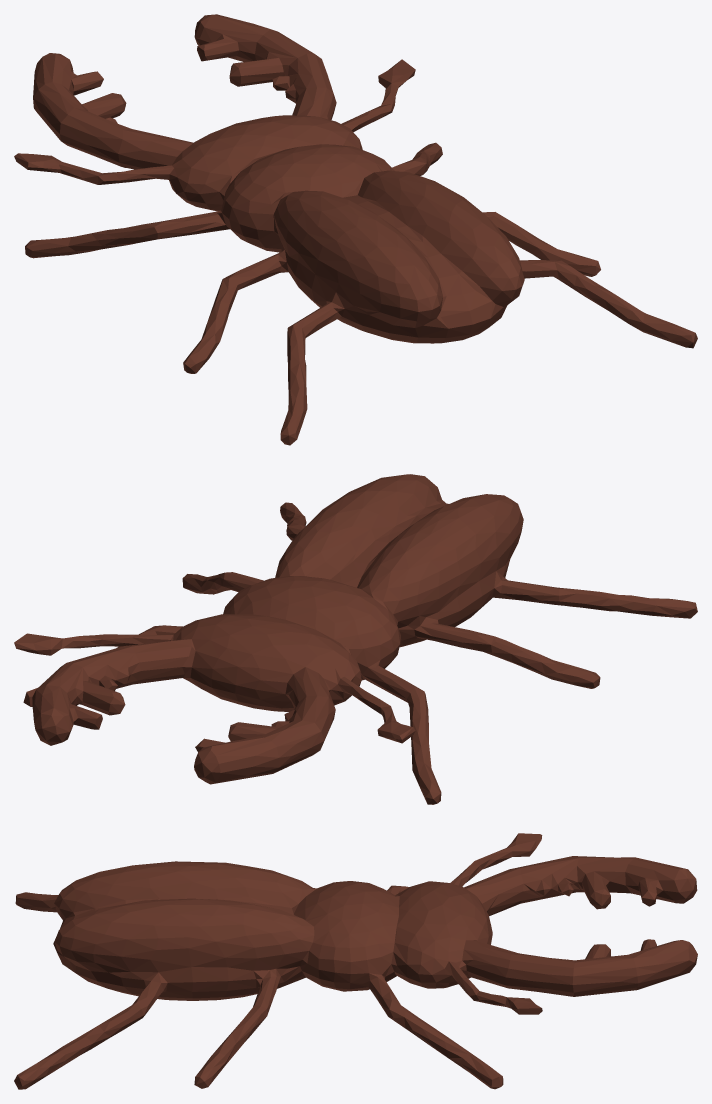
The model's file is NEW_RECOVERY_065_LOD1.glb.
3 renders of one model, top to bottom at view 1: azimuth 30°, elevation 25°; view 2: azimuth 150°, elevation 25°; view 3: azimuth 270°, elevation 25°, orthographic. The views are drawn at different scales.
Visible parts, largest first — view 1: StagBeetle; view 2: StagBeetle; view 3: StagBeetle.
Part boxes in pixels (<box>): StagBeetle: <box>14,14,697,445</box>; StagBeetle: <box>14,474,697,804</box>; StagBeetle: <box>14,833,697,1089</box>.
Size of the model in its own units: 3.25 by 0.923 by 4.99.
